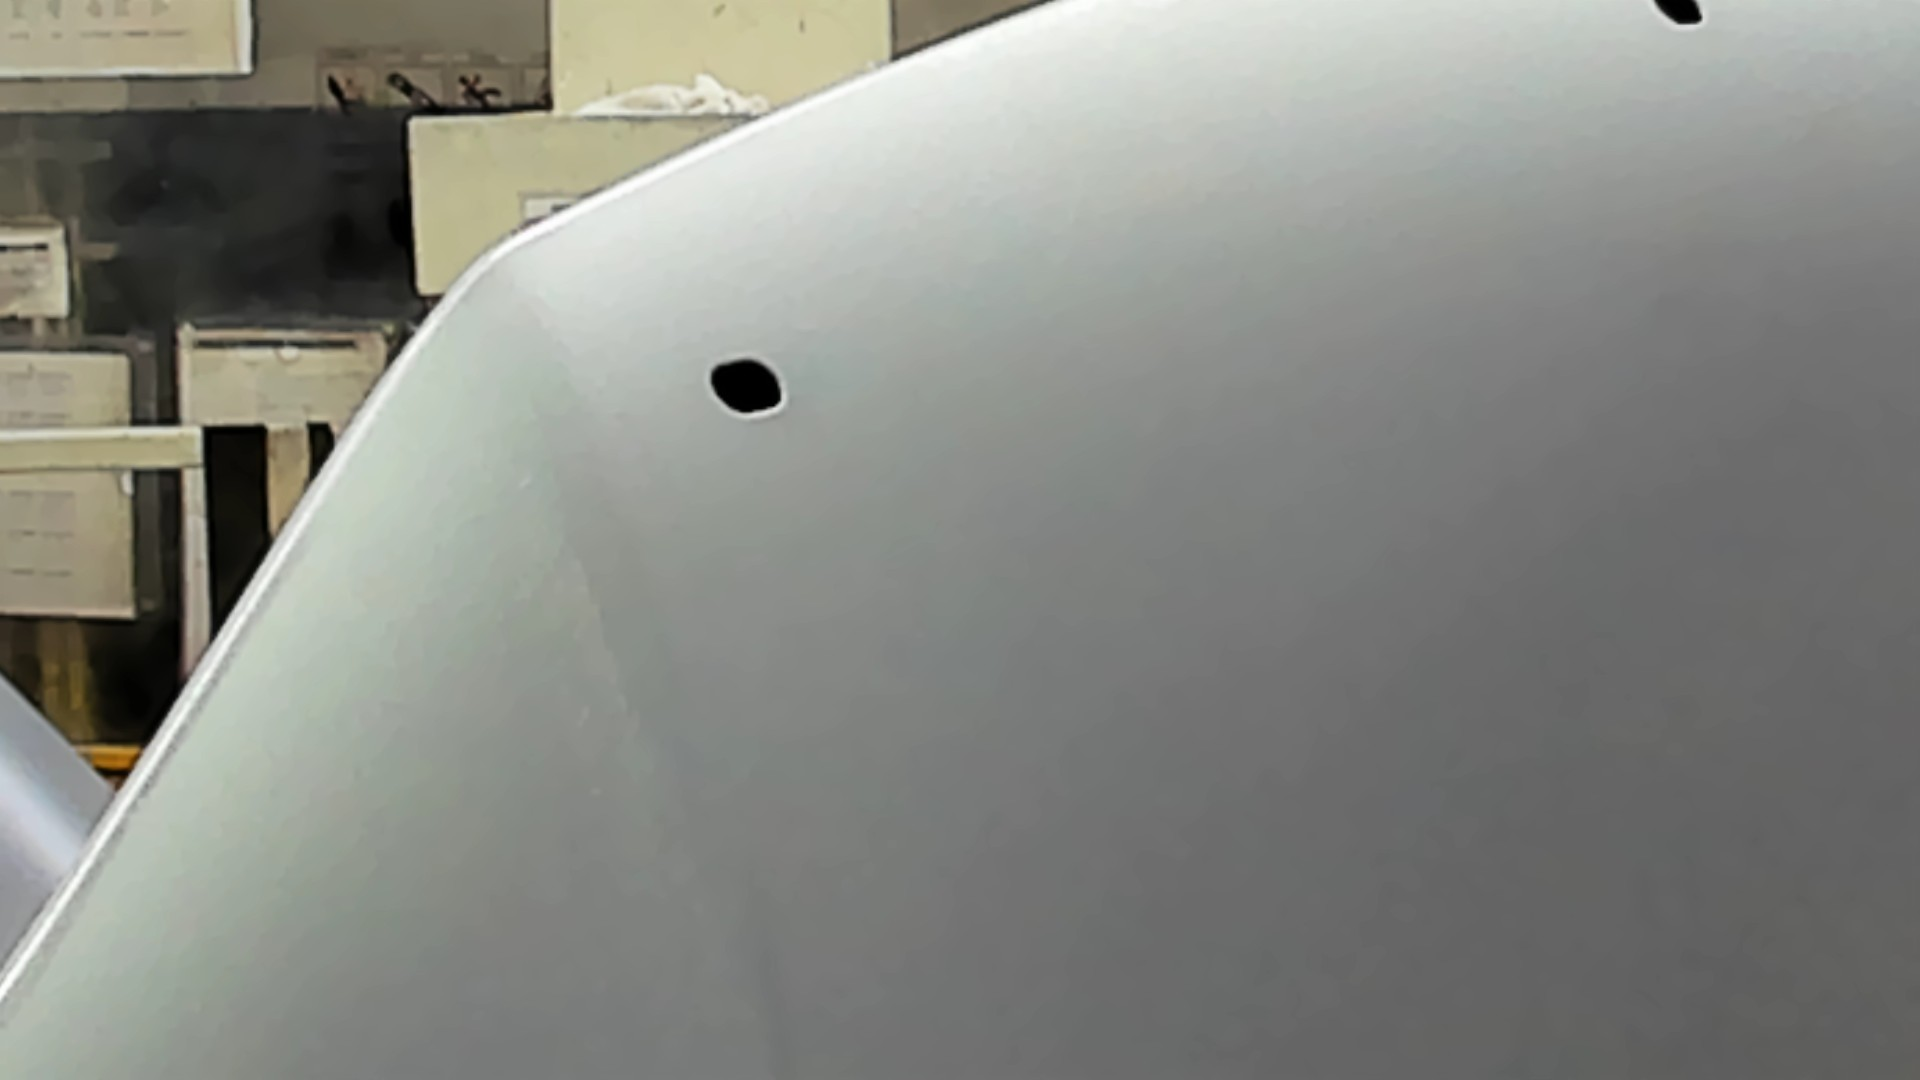amorfo: (705, 353, 791, 422), (1651, 1, 1706, 32)
